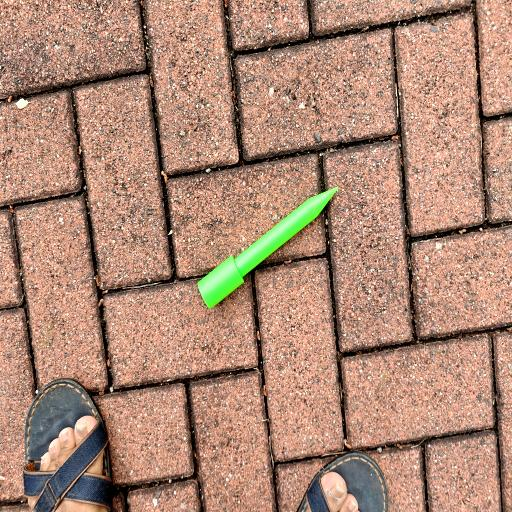Probe-Detection: (198, 187, 338, 309)
